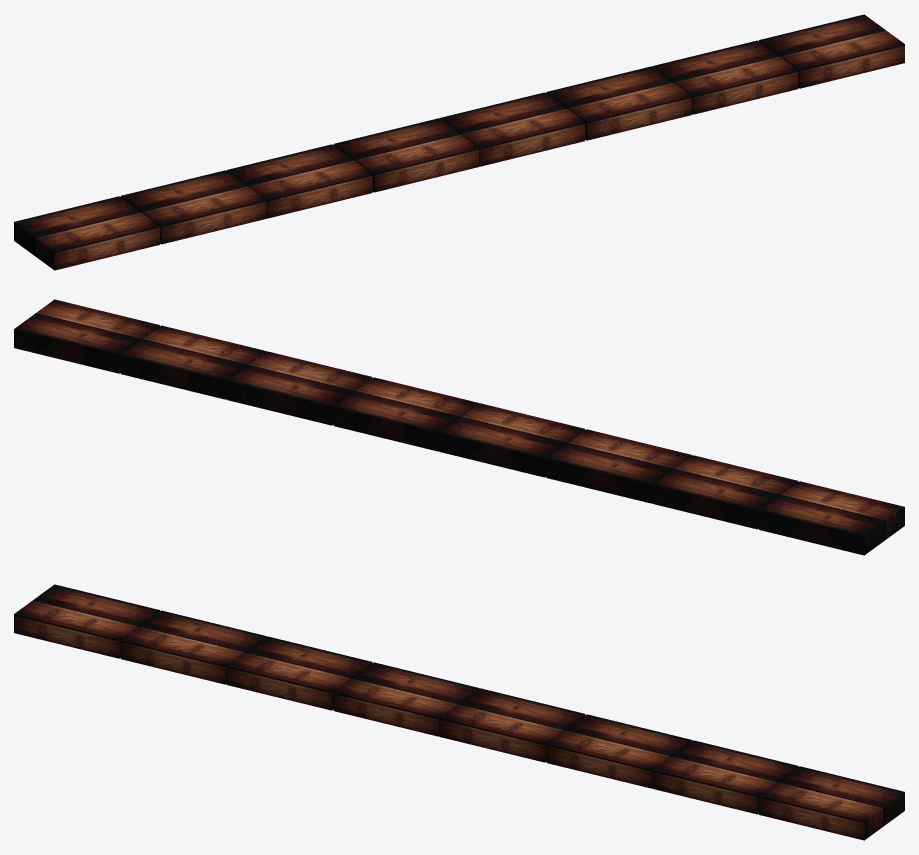
Rendered from SueloSinVara_porSiAcaso.fbx.
3 views of the same model, one above another, from view 1: azimuth 30°, elevation 25°; view 2: azimuth 150°, elevation 25°; view 3: azimuth 330°, elevation 25° (orthographic).
Parts seen in each view (by area): view 1: Suelo_Madera.001, Suelo_Madera.003; view 2: Suelo_Madera.001, Suelo_Madera.003; view 3: Suelo_Madera.003, Suelo_Madera.001.
Part boxes in pixels (x1,y1,x2,y2): Suelo_Madera.001: (14,118,479,270); Suelo_Madera.003: (439,14,904,166); Suelo_Madera.001: (439,403,904,555); Suelo_Madera.003: (14,299,479,451); Suelo_Madera.003: (439,688,904,840); Suelo_Madera.001: (14,584,479,736).
Size of the model in its own units: 3002 by 63.99 by 248.
1 material, 1 textured.
